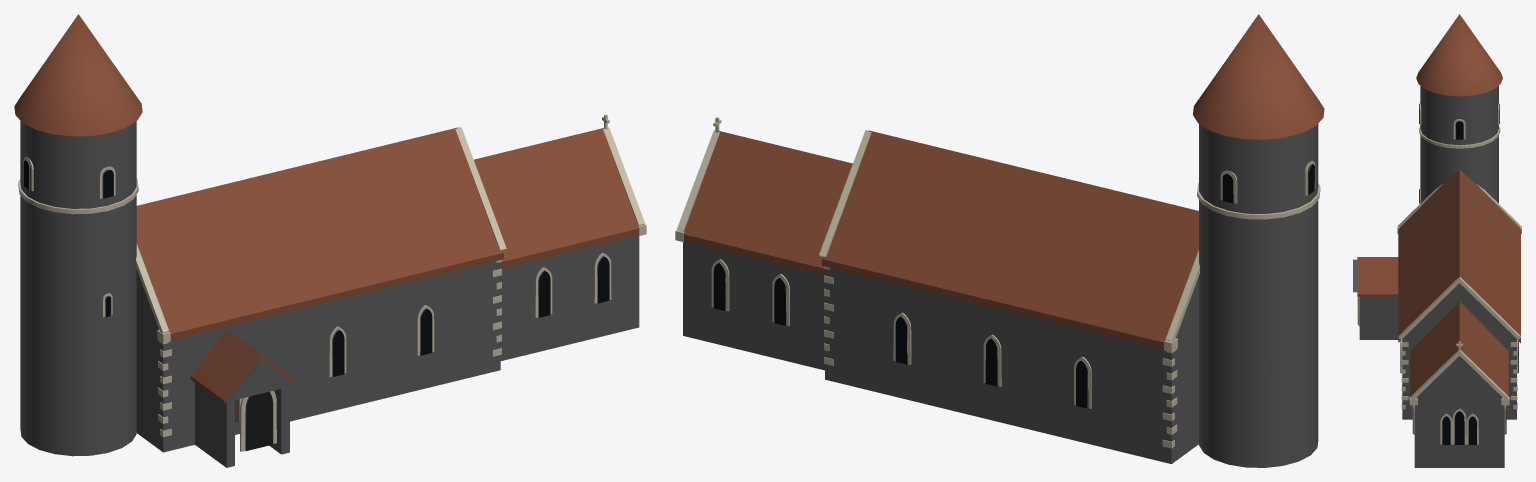
The model's file is context.church.ea_round_tile.glb.
The picture shows the model from 3 angles, left to right: view 1: azimuth 30°, elevation 25°; view 2: azimuth 150°, elevation 25°; view 3: azimuth 270°, elevation 25°; orthographic projection. The views are drawn at different scales.
Visible parts, largest first — view 1: main__stone_555, main__clad_843, main__stone_cba, main__glass_dark, main__timber_111, main__stone_987; view 2: main__stone_555, main__clad_843, main__stone_cba, main__glass_dark; view 3: main__clad_843, main__stone_555, main__stone_cba, main__glass_dark, main__stone_987.
Part boxes in pixels (x1,y1,x2,y2): main__stone_555: (20,121,639,467); main__clad_843: (14,14,640,403); main__stone_cba: (18,114,646,451); main__glass_dark: (23,160,609,376); main__timber_111: (246,391,273,450); main__stone_987: (23,160,609,450); main__stone_555: (683,124,1318,467); main__clad_843: (681,14,1324,349); main__stone_cba: (675,117,1320,448); main__glass_dark: (713,164,1314,408); main__clad_843: (1357,14,1520,397); main__stone_555: (1353,85,1516,467); main__stone_cba: (1358,102,1521,444); main__glass_dark: (1400,104,1518,444); main__stone_987: (1357,103,1518,433).
Bounding box in the file's own units: 27.82 × 18.92 × 10.3.
